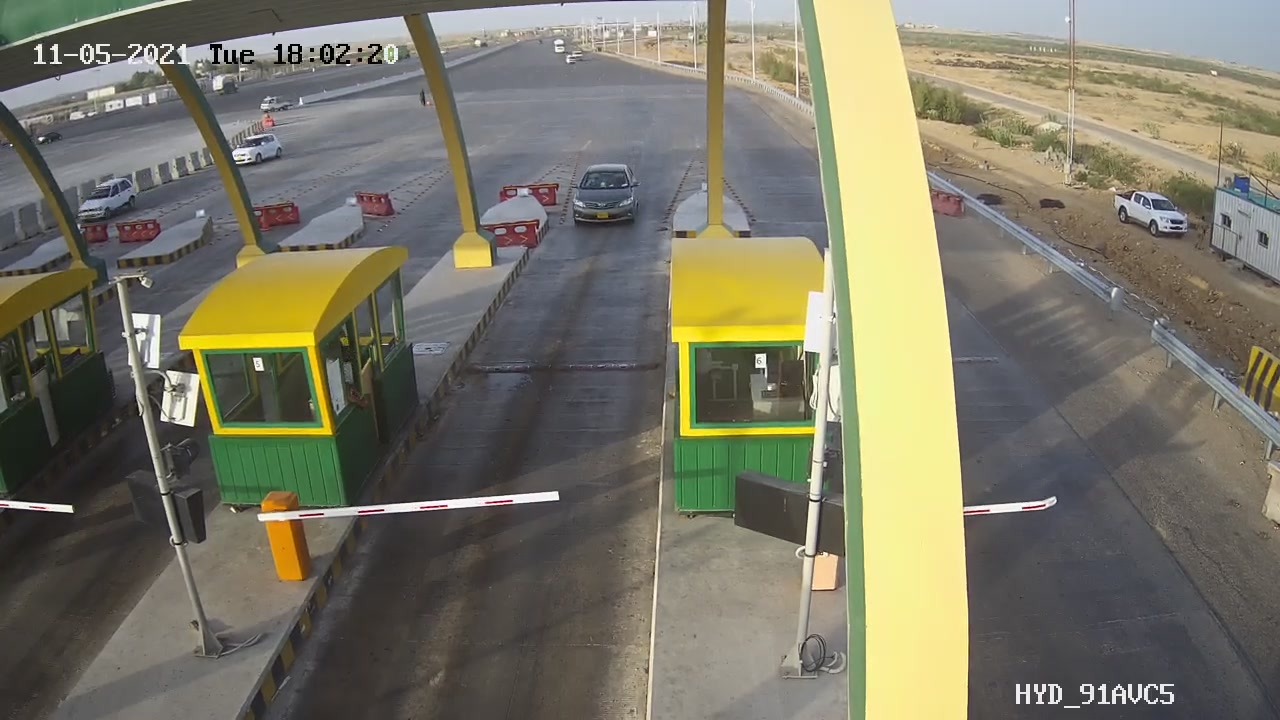F1: (556, 153, 656, 244)
